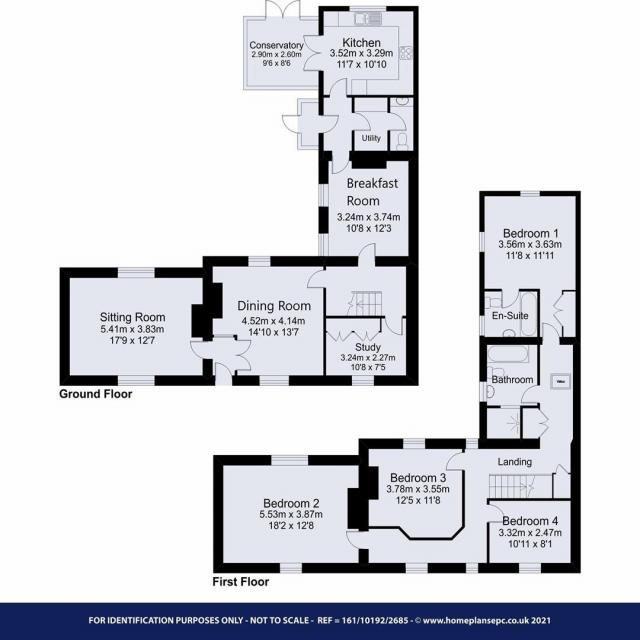DOOR: (356, 241, 377, 269), (188, 340, 214, 362), (344, 530, 370, 552), (213, 361, 234, 387), (485, 503, 508, 525), (541, 321, 561, 346), (305, 268, 327, 290), (331, 150, 350, 175), (317, 114, 339, 135), (386, 111, 408, 132), (383, 315, 404, 337), (350, 112, 373, 132), (281, 114, 302, 135), (520, 384, 541, 405), (328, 77, 348, 99), (500, 288, 520, 309), (445, 452, 466, 472)
ROOM: (212, 454, 379, 574), (59, 266, 223, 387), (188, 256, 328, 387), (478, 190, 581, 346), (316, 150, 420, 268), (347, 438, 465, 541), (305, 241, 419, 337), (302, 6, 419, 98), (485, 497, 582, 575), (322, 315, 419, 387)
WINDOW: (116, 265, 156, 280), (116, 374, 156, 388), (270, 453, 310, 467), (259, 374, 291, 387), (246, 254, 273, 269), (350, 374, 376, 388), (278, 561, 304, 575), (348, 4, 388, 13), (518, 561, 543, 575), (317, 183, 330, 208), (317, 232, 330, 257), (404, 562, 429, 575), (402, 437, 426, 450), (478, 380, 488, 403), (464, 561, 480, 575), (519, 190, 541, 198), (478, 231, 486, 253), (478, 315, 486, 337), (465, 438, 479, 450)
